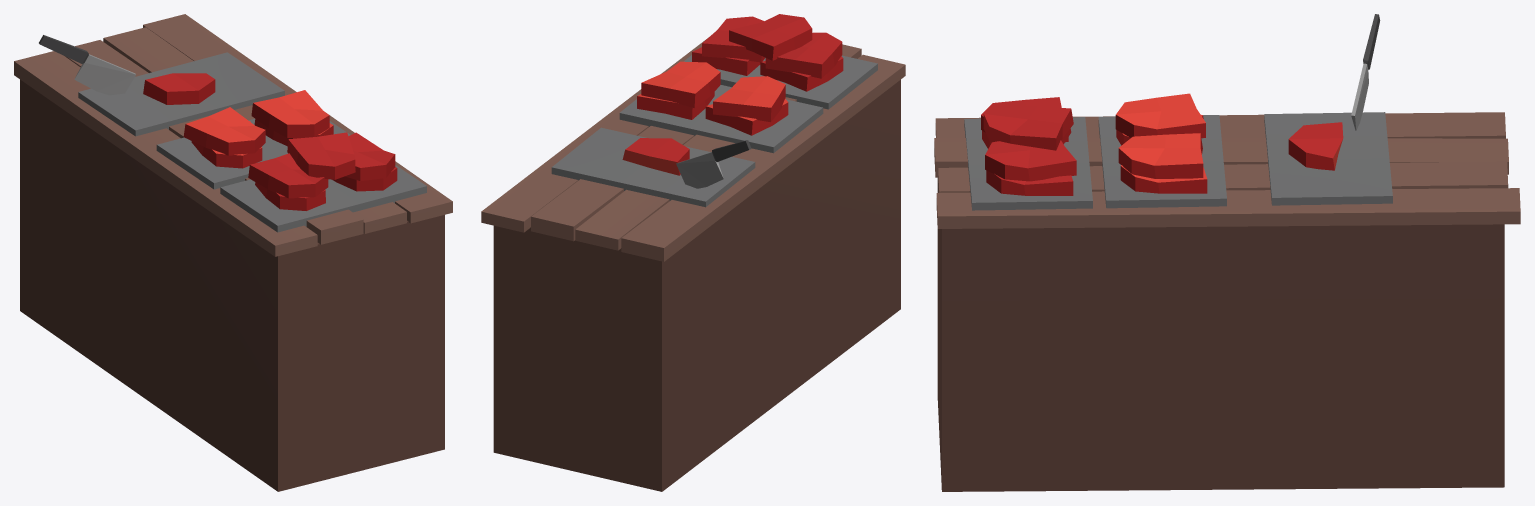
The model's file is stall_table_001.glb.
3 renders of one model, left to right at view 1: azimuth 30°, elevation 25°; view 2: azimuth 150°, elevation 25°; view 3: azimuth 270°, elevation 25°, orthographic. The views are drawn at different scales.
Parts seen in each view (by area): view 1: stall_table_001; view 2: stall_table_001; view 3: stall_table_001.
Part boxes in pixels (x1,y1,x2,y2): stall_table_001: [14, 14, 452, 491]; stall_table_001: [481, 14, 905, 491]; stall_table_001: [934, 14, 1520, 491].
Bounding box in the file's own units: 0.7618 × 1.08 × 1.57.
1 material, 1 textured.
